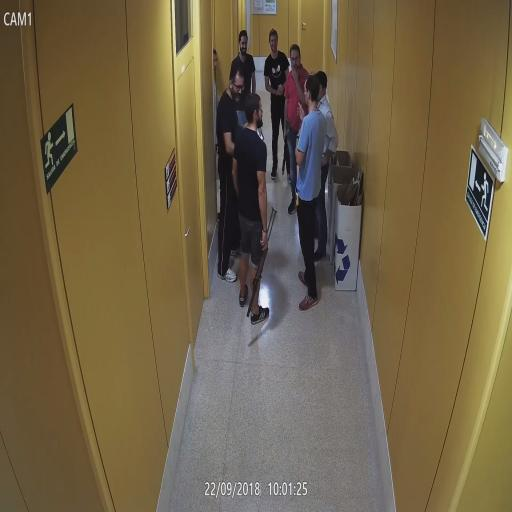Handgun: (285, 116, 292, 140)
